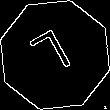L_SE: (29, 25, 81, 85)
